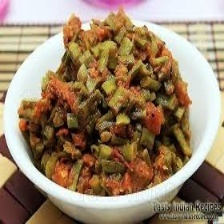sabzi: (10, 4, 199, 199)
